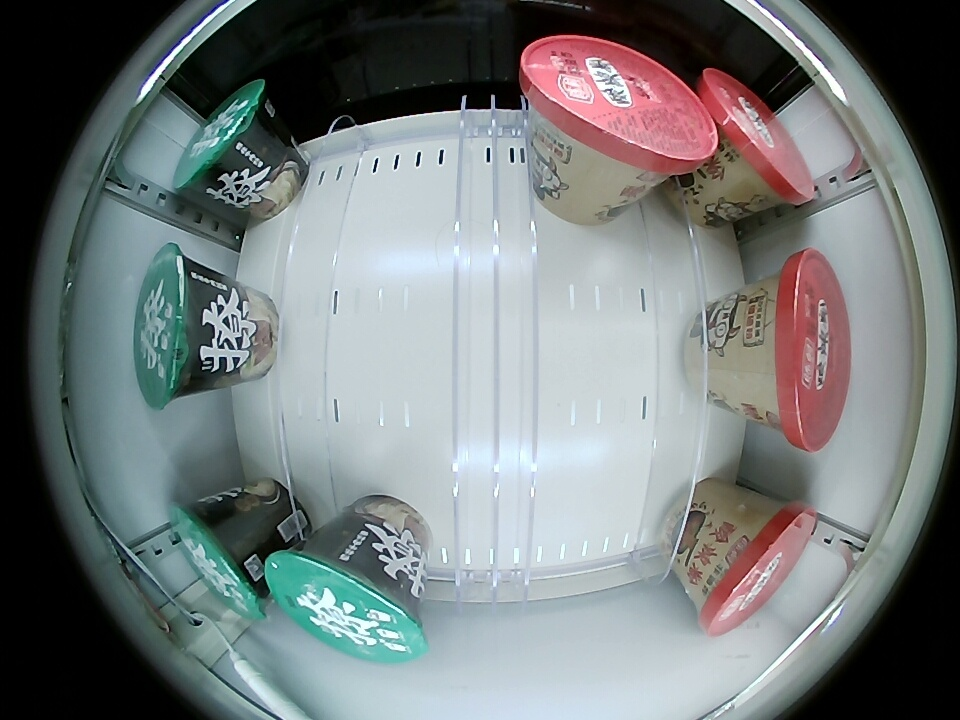liaomian: (265, 540, 427, 663), (135, 246, 220, 408), (173, 79, 275, 201), (171, 500, 270, 622)
suanlafen: (522, 34, 718, 184), (740, 251, 850, 451), (698, 68, 815, 209), (695, 499, 815, 635)
